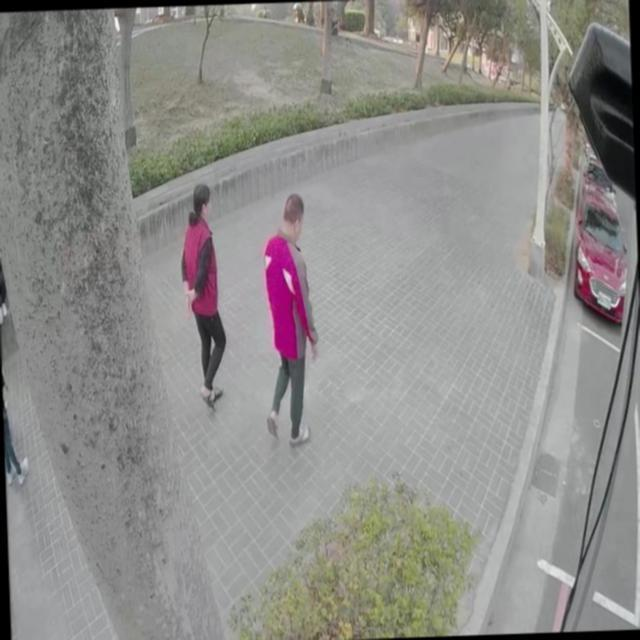person: (254, 191, 322, 456), (177, 182, 229, 406), (1, 358, 26, 490)
